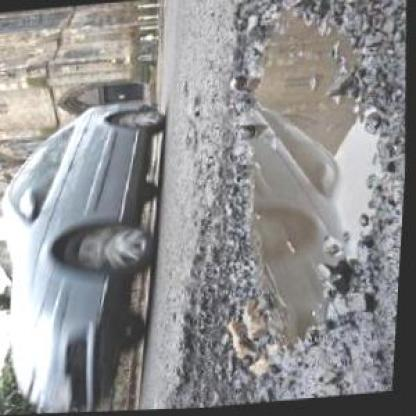pothole: (188, 0, 408, 369)
